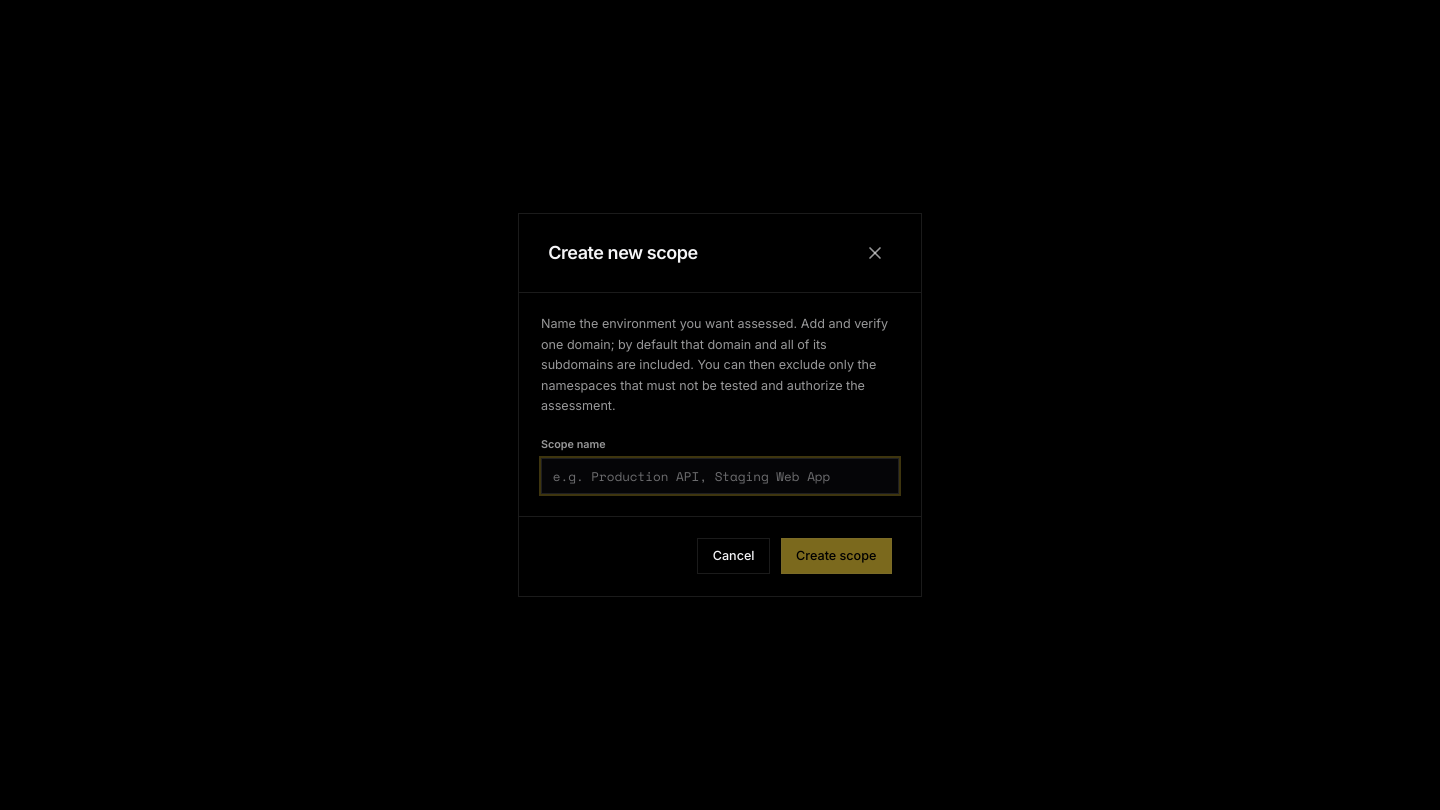
CreateScopeModal › never limits scope creation on a plan
Type "Fourth scope" into the field labelled "Scope name".
click(720, 476); type("Fourth scope")  # box [541,458,899,494]
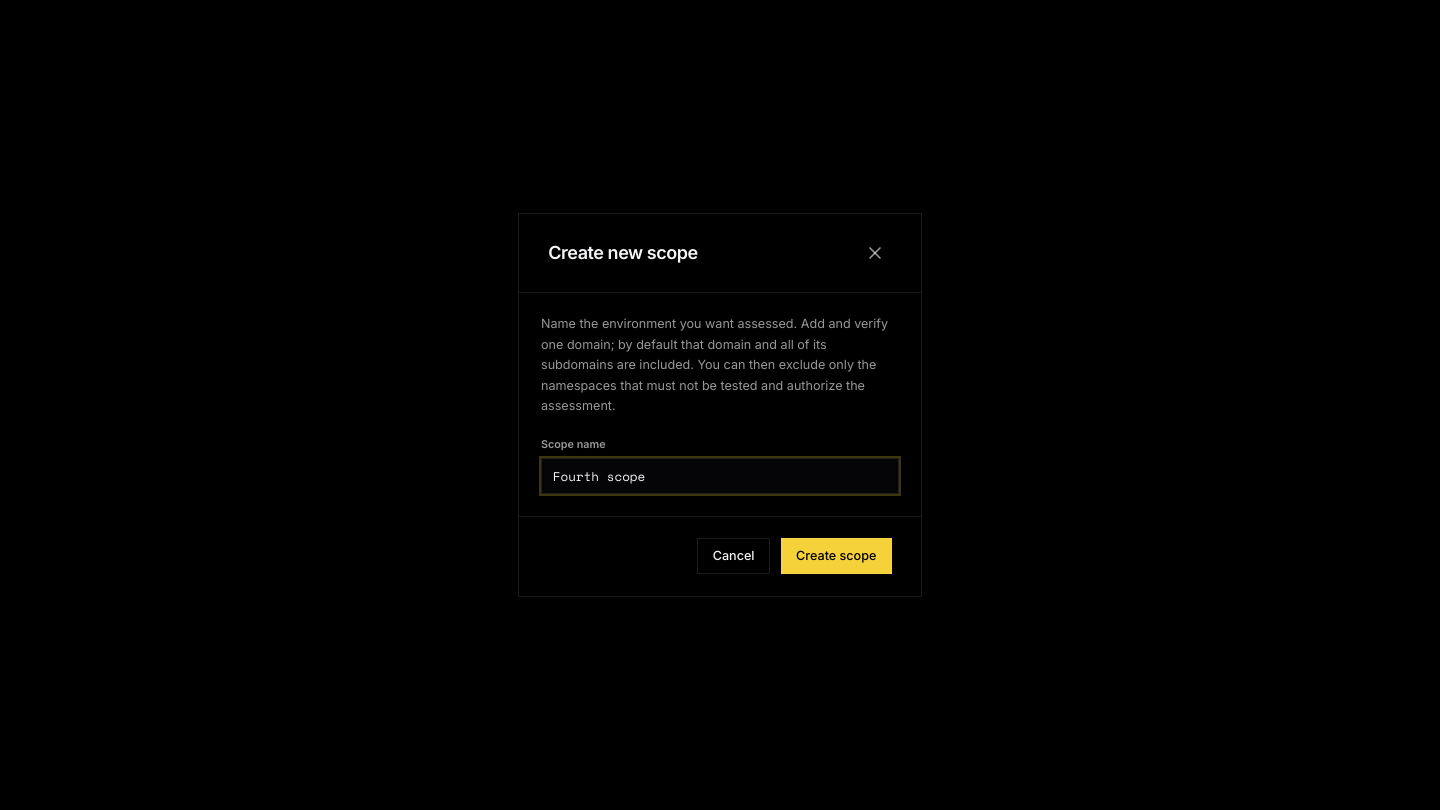
Check: the button "Create scope" is enabled, box [781,538,892,574]
